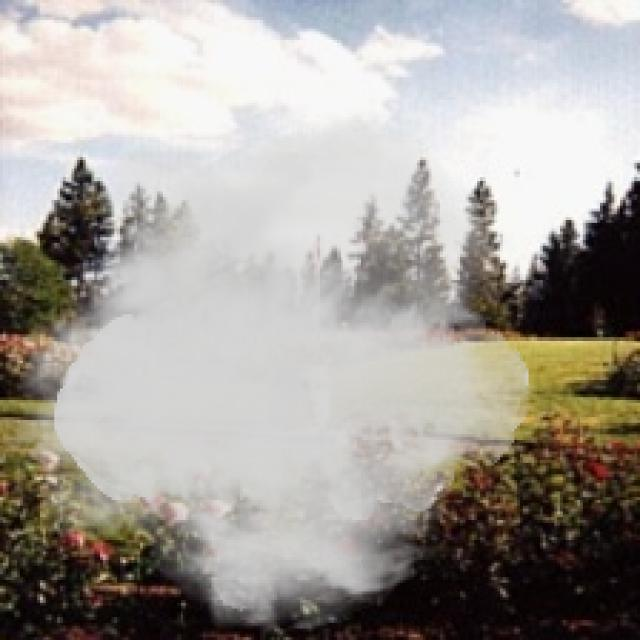smoke: (0, 105, 532, 638)
